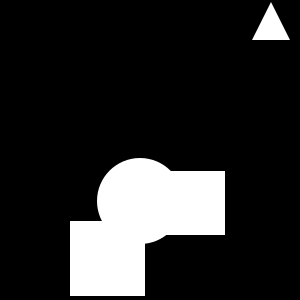circle: (70, 221, 145, 296), (161, 171, 225, 235)
rectangle: (97, 158, 183, 244)
triangle: (252, 2, 290, 40)
